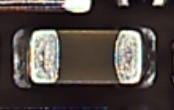COMP: (9, 22, 159, 92)
GAP: (12, 1, 91, 56), (119, 1, 154, 51)
